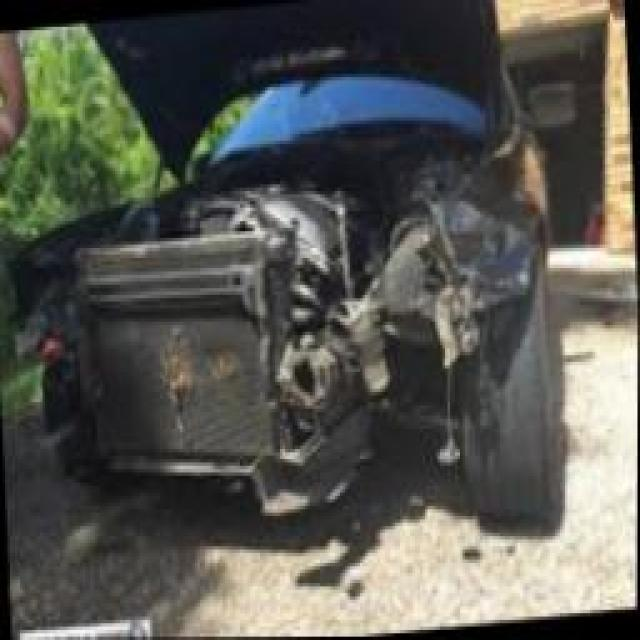Bumper: (258, 346, 470, 525)
Light: (298, 223, 460, 357)
